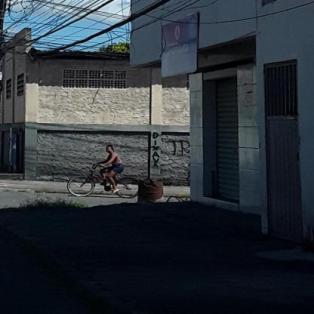Poste: (0, 0, 15, 213)
